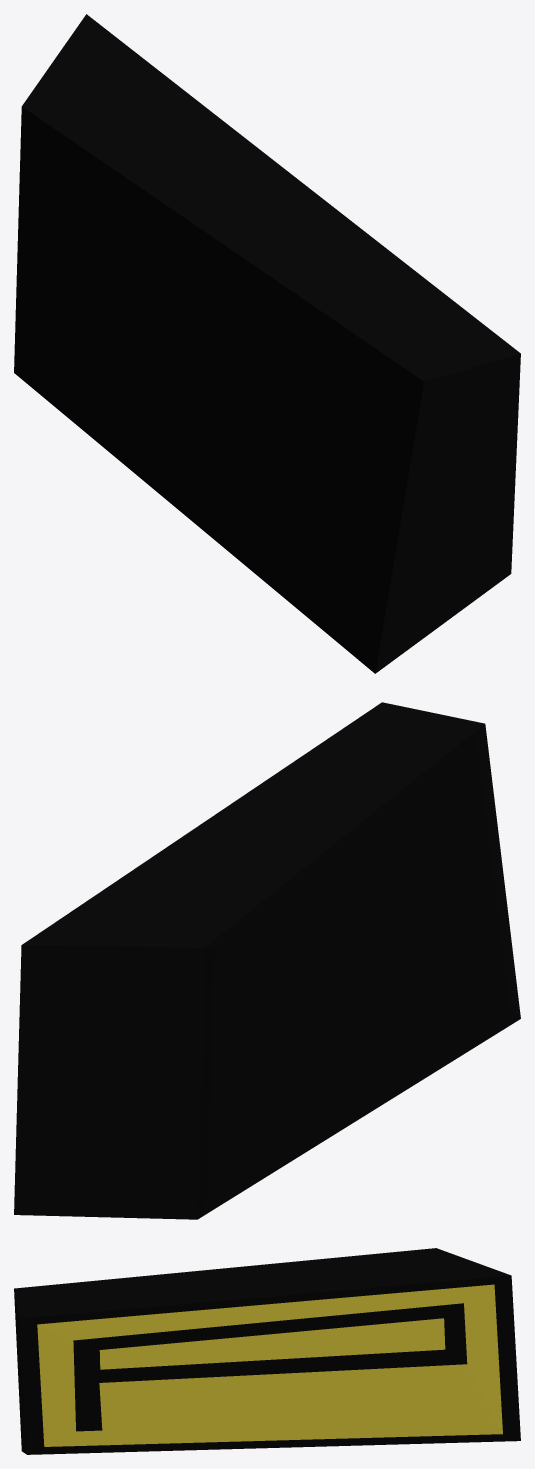
The picture shows the model from 3 angles, top to bottom: view 1: azimuth 30°, elevation 25°; view 2: azimuth 150°, elevation 25°; view 3: azimuth 270°, elevation 25°; orthographic projection. The views are drawn at different scales.
Parts seen in each view (by area): view 1: P; view 2: P; view 3: P.
Boxes of the visible parts, x1,y1,x2,y2 form: P: (14, 14, 520, 673); P: (14, 702, 520, 1219); P: (14, 1248, 520, 1454).
Size of the model in its own units: 2.86 by 5.84 by 12.84.
